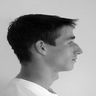ear: (30, 31, 56, 62)
